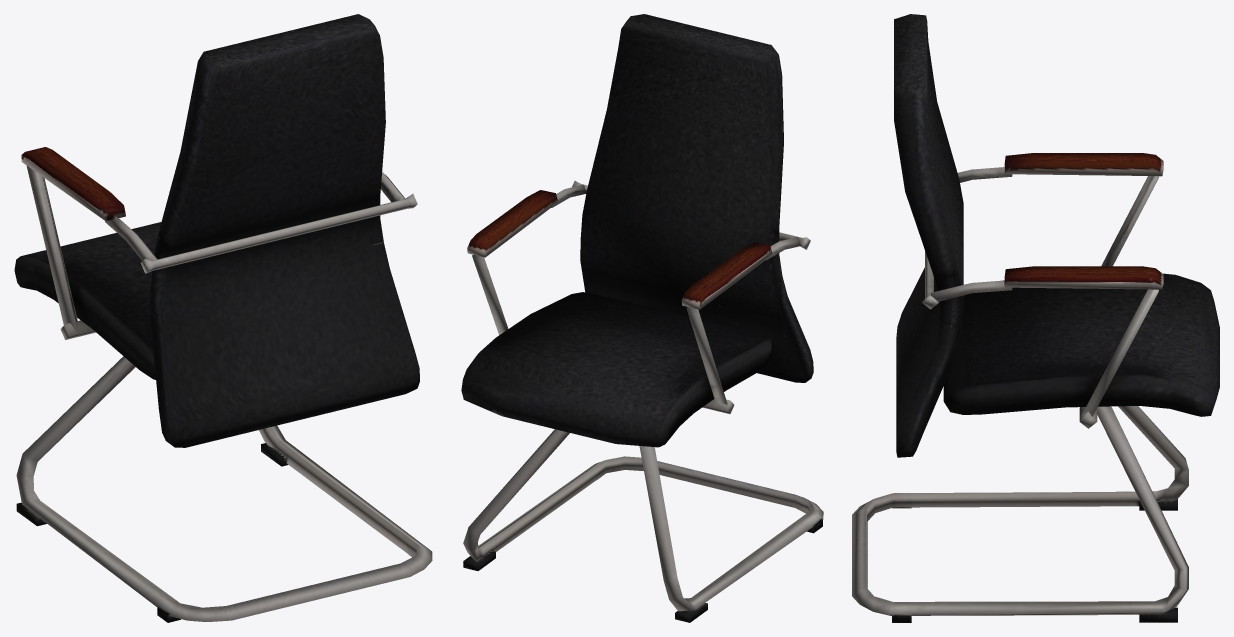
File: ghetua.fbx
3 views of the same model, side by side, from view 1: azimuth 30°, elevation 25°; view 2: azimuth 150°, elevation 25°; view 3: azimuth 270°, elevation 25° (orthographic). The views are drawn at different scales.
Parts seen in each view (by area): view 1: tripo_node_8f333f22; view 2: tripo_node_8f333f22; view 3: tripo_node_8f333f22.
Part boxes in pixels (bbox=[...]): tripo_node_8f333f22: bbox=[14, 14, 432, 622]; tripo_node_8f333f22: bbox=[461, 14, 823, 622]; tripo_node_8f333f22: bbox=[852, 14, 1219, 622].
Size of the model in its own units: 51.37 by 99.8 by 65.04.
Materials: 1 (1 with a texture image).
